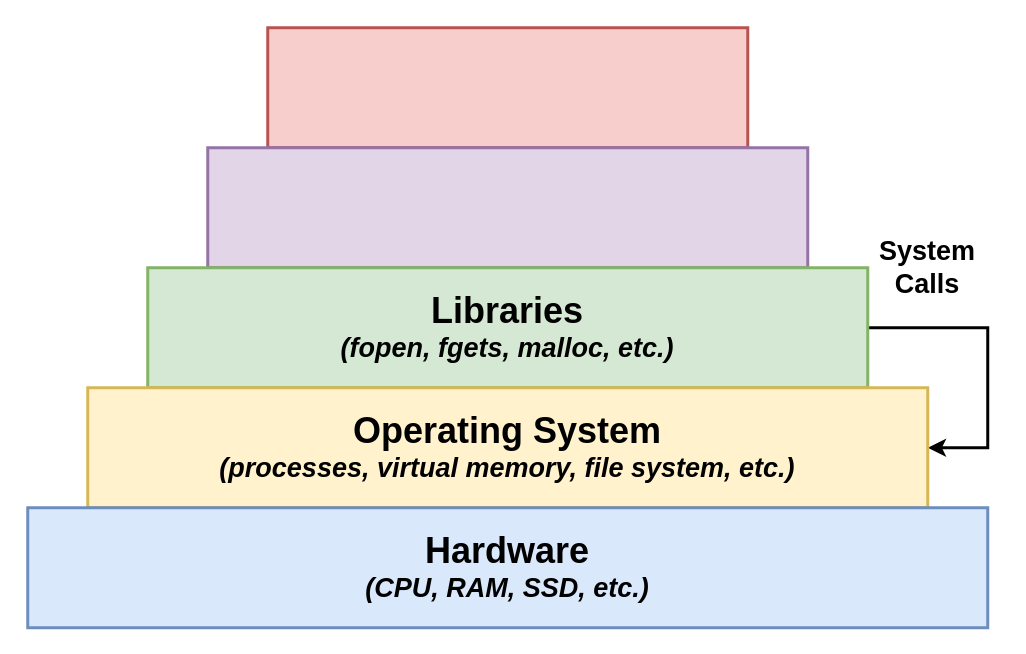
Image size: 1026x654. Some labels were removed from this diagram. The centre of each missing label's shape, as x and y in pixels:
Applications (shell, editors, filters, etc.): (507,207)
Users: (507,87)
